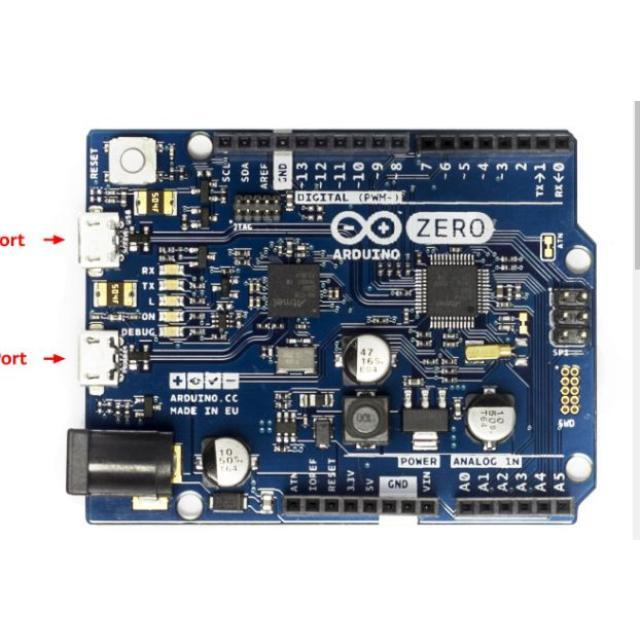Arduino-Zero: (67, 130, 597, 526)
